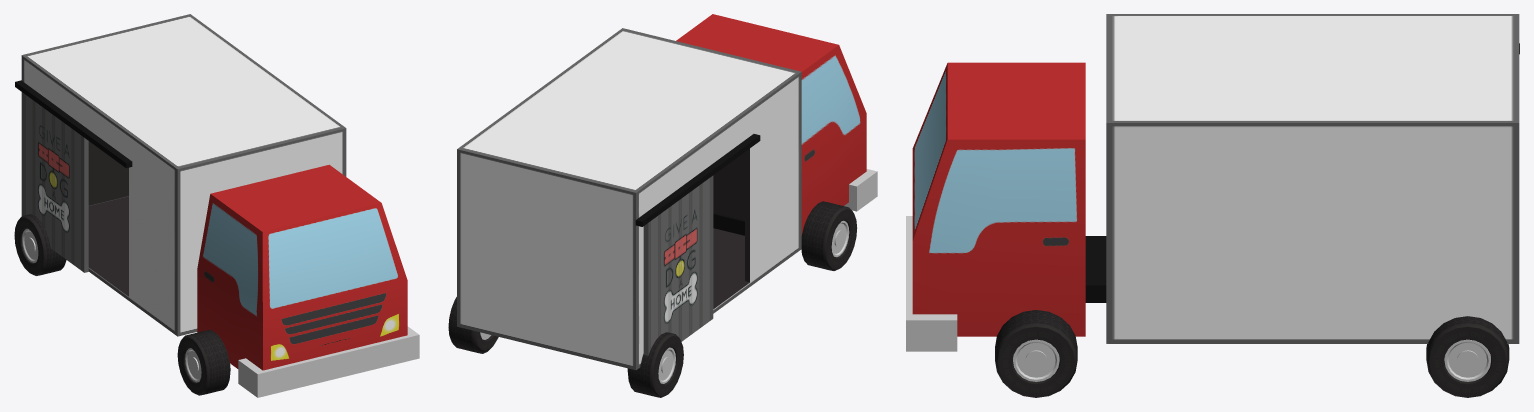
File: Truck-OpenDoor.fbx
The picture shows the model from 3 angles, left to right: view 1: azimuth 30°, elevation 25°; view 2: azimuth 150°, elevation 25°; view 3: azimuth 270°, elevation 25°; orthographic projection. The views are drawn at different scales.
Visible parts, largest first — view 1: pCube1, pCube4, pCube2, pCube6, pCylinder4, pCylinder8, pCube3, pCylinder3 (×2); view 2: pCube1, pCube4, pCube2, pCylinder4 (×2), pCylinder8, pCube3, pCylinder3 (×2), pCube6, pCube5; view 3: pCube1, pCube4, pCylinder4 (×2), pCube6, pCylinder3, pCylinder7, pCube5.
Part boxes in pixels (x1,y1,x2,y2): pCube1: (21, 14, 346, 336); pCube4: (197, 164, 407, 370); pCube2: (23, 93, 88, 272); pCube6: (238, 326, 419, 397); pCylinder4: (177, 330, 230, 395); pCylinder8: (14, 214, 66, 275); pCube3: (15, 80, 132, 168); pCylinder3 (×2): (22, 228, 201, 382); pCube1: (457, 28, 801, 370); pCube4: (676, 14, 866, 235); pCube2: (643, 175, 713, 355); pCylinder4 (×2): (448, 201, 857, 353); pCylinder8: (627, 332, 683, 397); pCube3: (635, 134, 760, 226); pCylinder3 (×2): (658, 220, 849, 383); pCube6: (844, 169, 877, 211); pCube5: (713, 212, 744, 235); pCube1: (1106, 14, 1519, 343); pCube4: (912, 62, 1085, 336); pCylinder4 (×2): (995, 310, 1509, 397); pCube6: (906, 216, 957, 351); pCylinder3: (1013, 339, 1059, 381); pCylinder7: (1444, 339, 1490, 381); pCube5: (1085, 236, 1106, 302).
Size of the model in its own units: 7.13 by 7.15 by 14.84.
6 materials, 4 textured.
